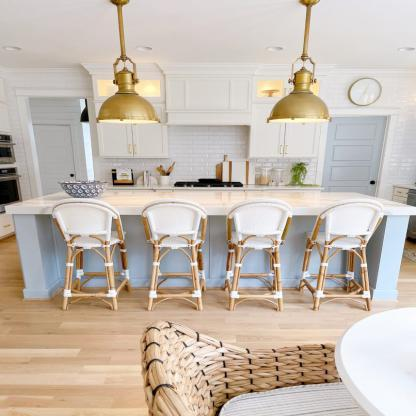chair: (139, 318, 344, 416), (50, 189, 129, 319), (302, 187, 384, 308), (221, 184, 293, 310), (140, 194, 216, 313)
clock: (341, 70, 388, 112)
door: (28, 100, 88, 197), (324, 115, 387, 195)
light: (89, 4, 172, 128), (264, 0, 334, 131)
table: (5, 194, 416, 308), (333, 308, 416, 416)
